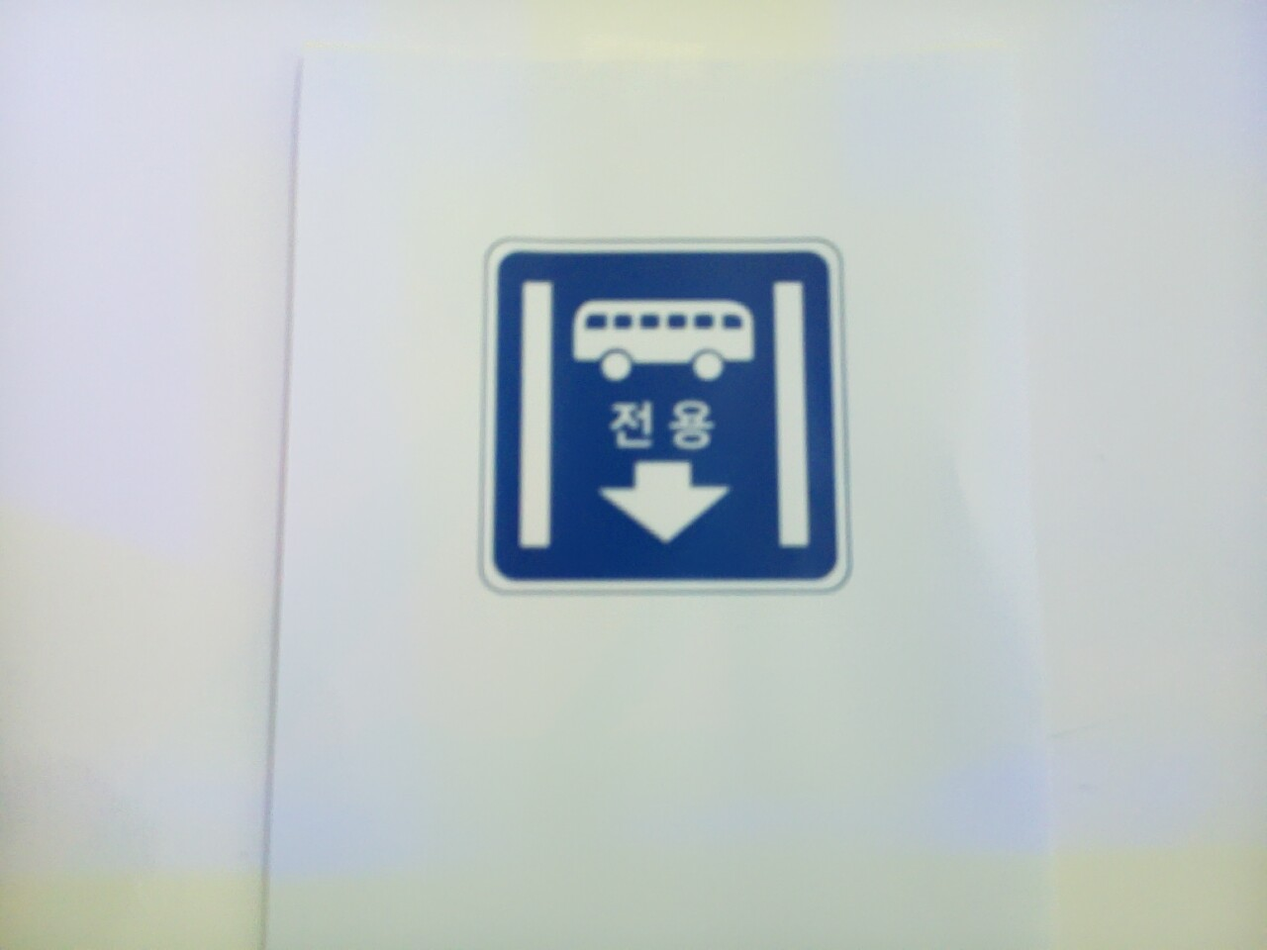bus_only_lane: (482, 240, 848, 592)
